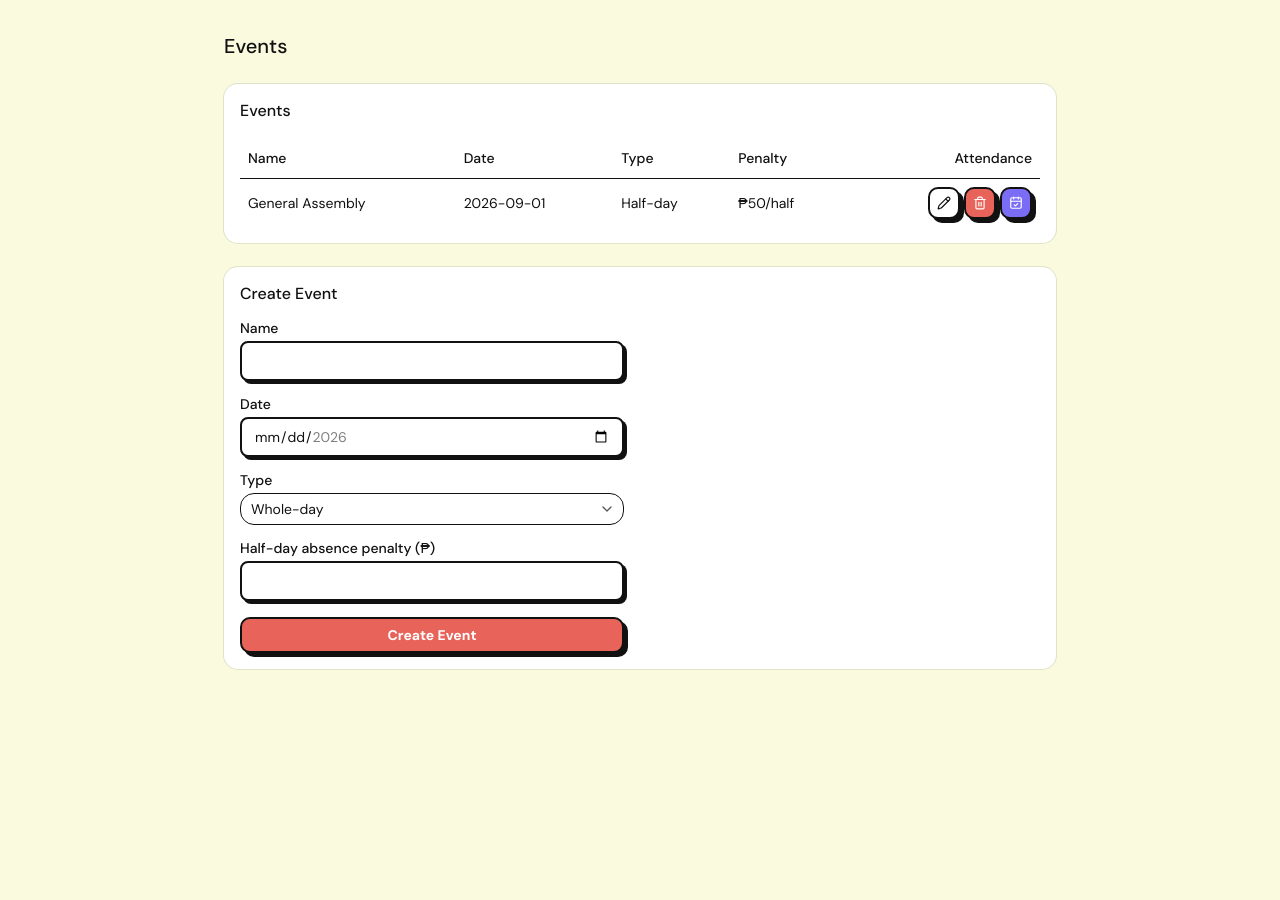
Test: Events row actions render as icon-only bordered buttons (Issue #257) › still opens the edit dialog when the icon-only Edit button is clicked
Click the button named "Edit".
click(944, 202)  # box [928,186,960,218]
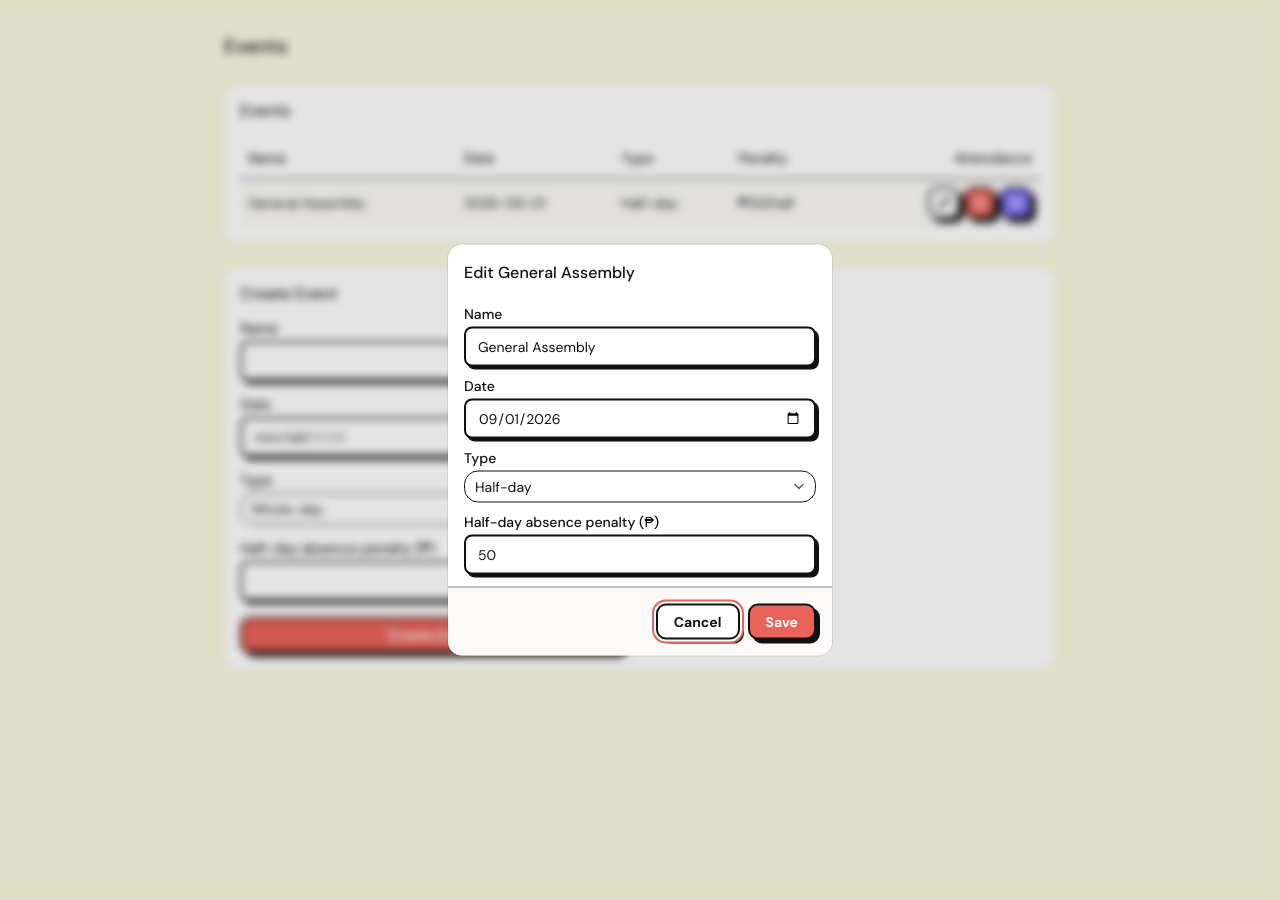
Result: the heading "Edit General Assembly" is shown at [464,260,635,284]
